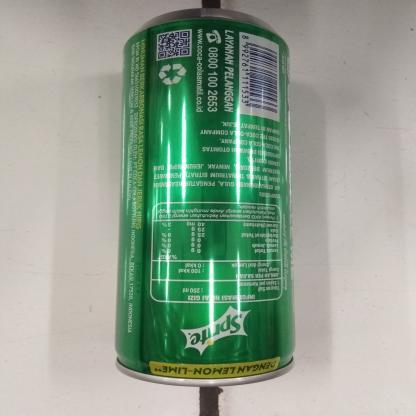can: (112, 4, 293, 384)
